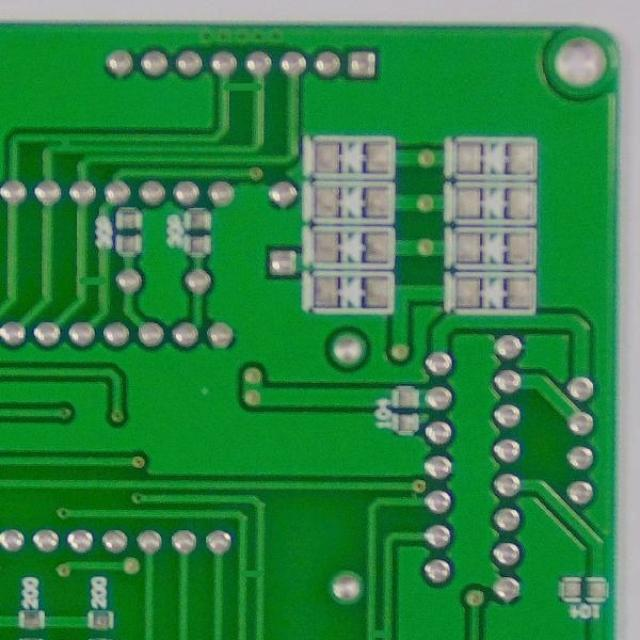Short_Circuit: (211, 73, 273, 104), (70, 263, 113, 300), (234, 561, 268, 589), (51, 129, 79, 157), (364, 619, 397, 640)
